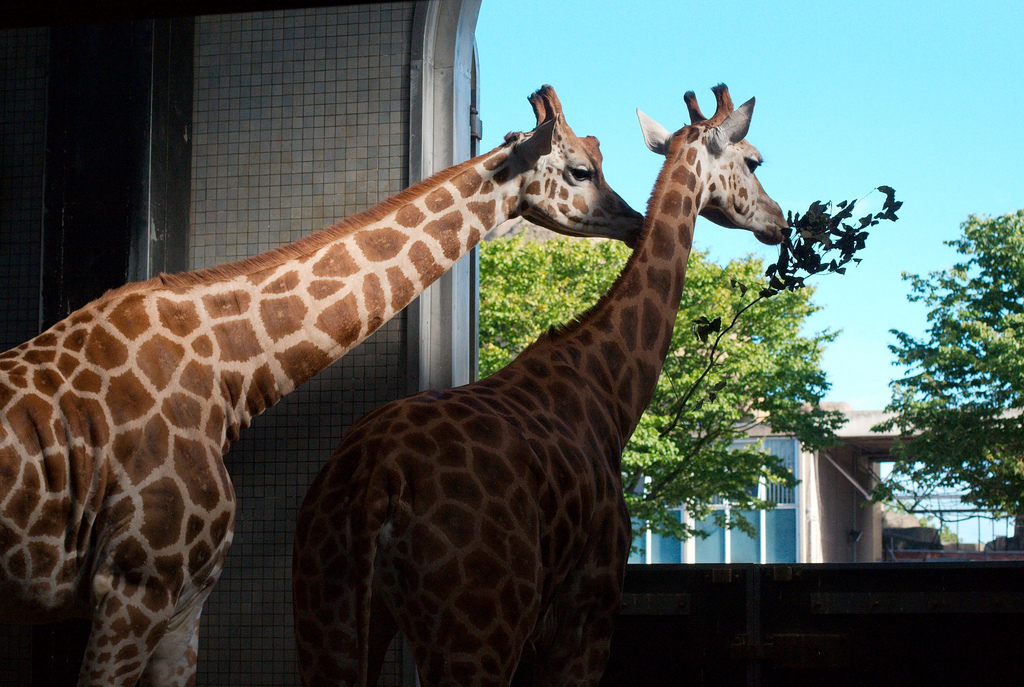giraffe: (20, 90, 643, 595), (338, 80, 803, 674)
